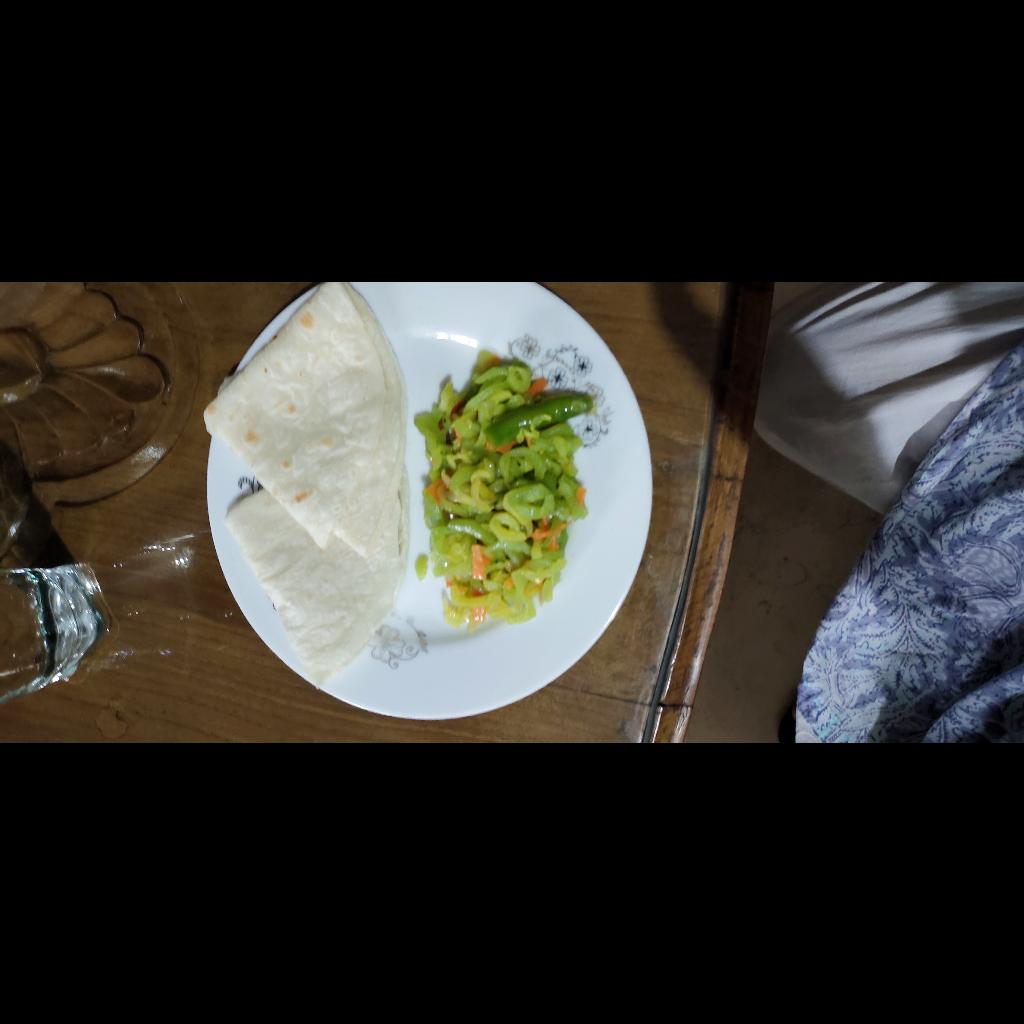chichinga-vaji: (113, 687, 395, 877)
ruti: (57, 482, 461, 690)
